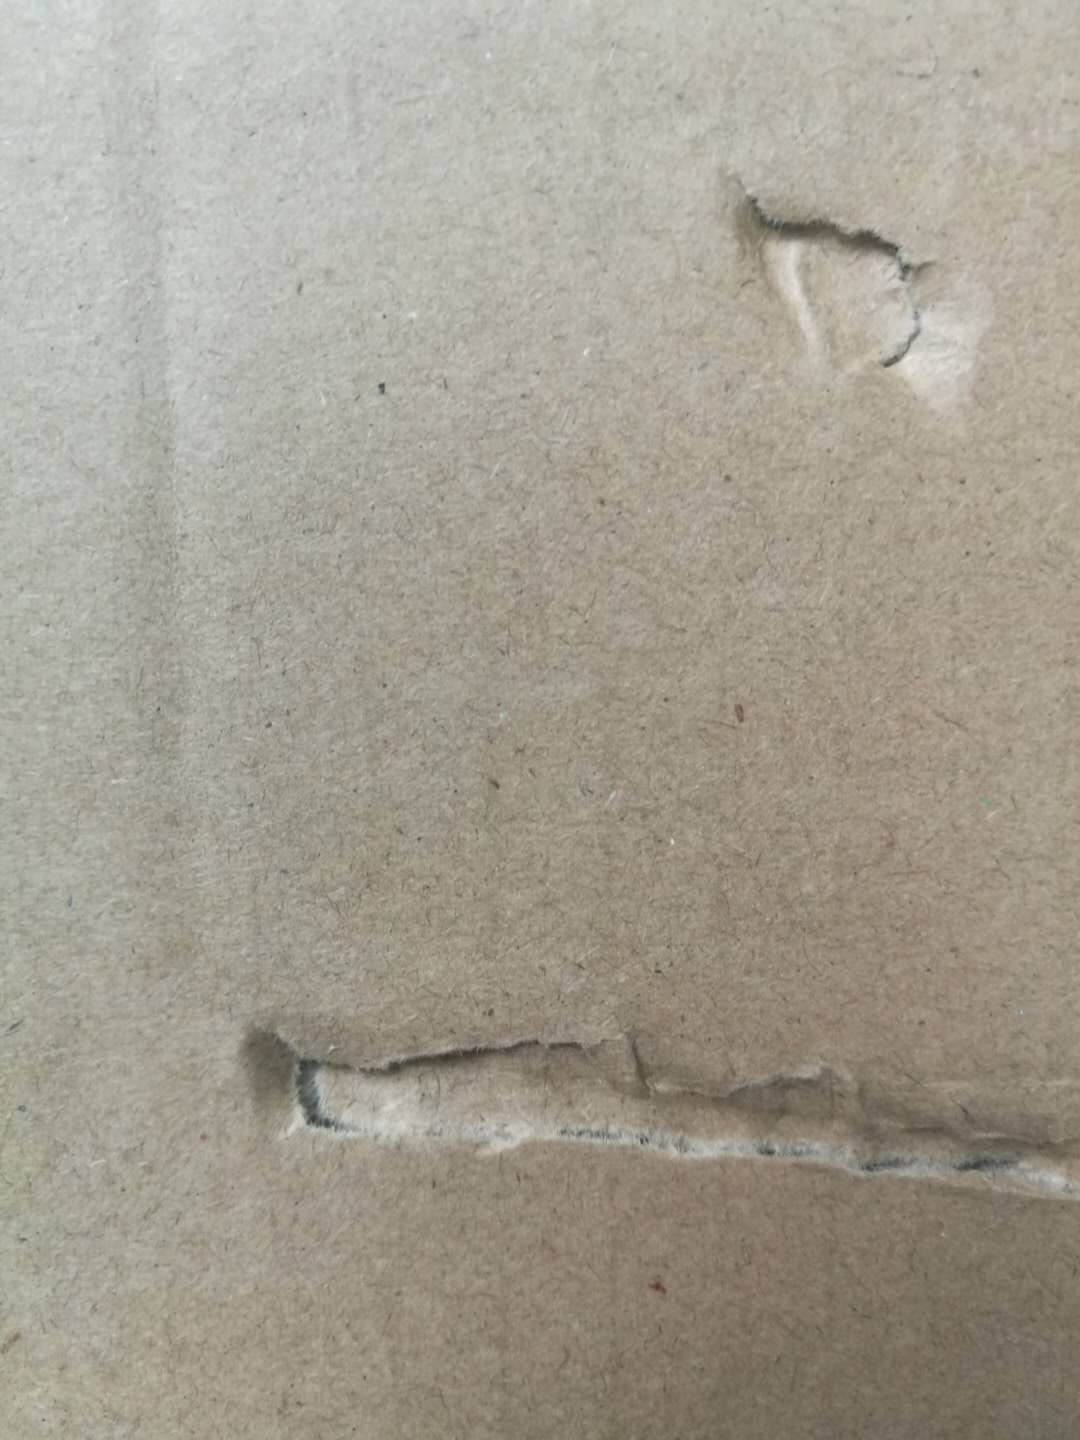defect: (211, 984, 1080, 1237), (66, 5, 269, 952), (687, 130, 1012, 442)
